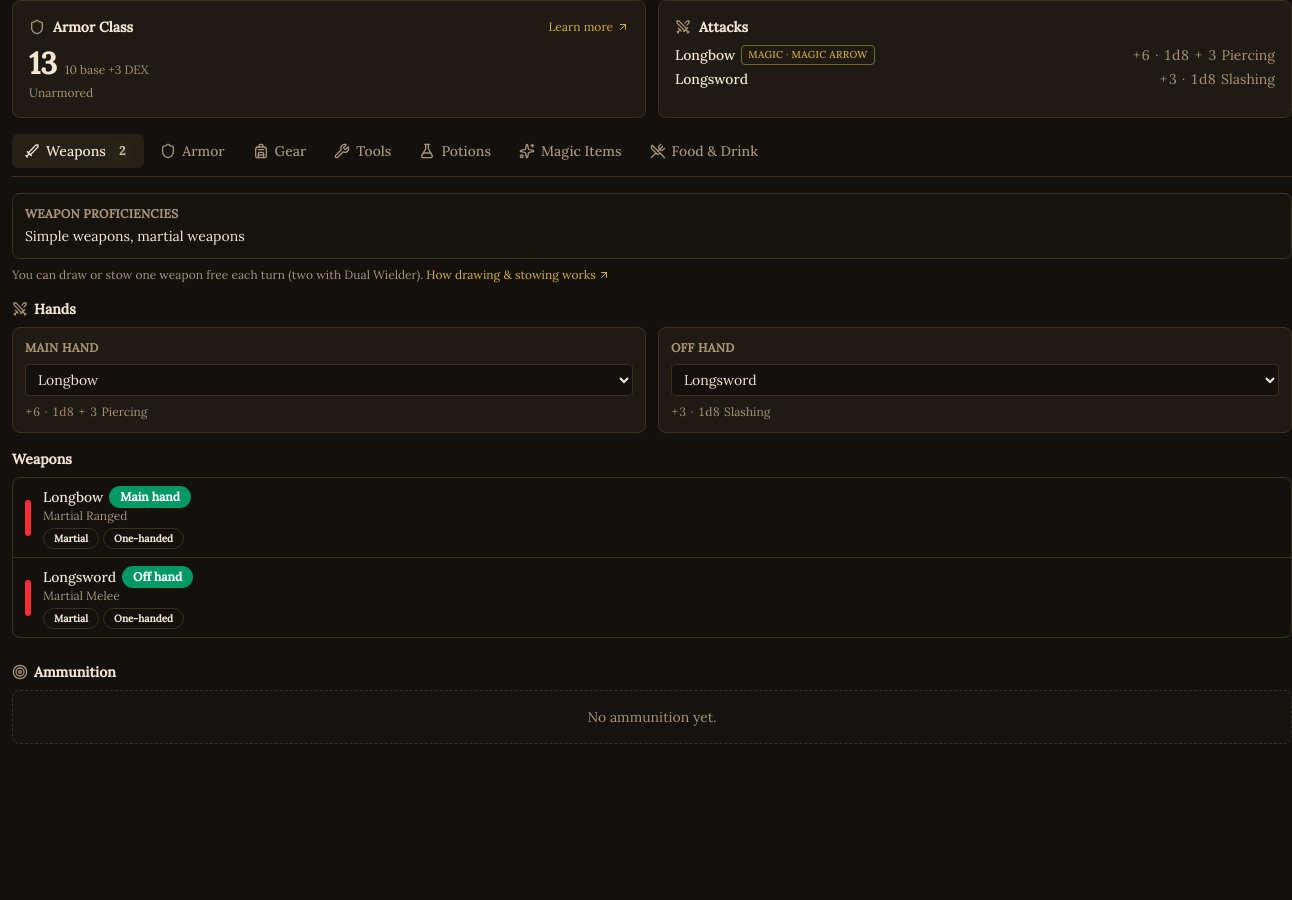
InventoryTab — Hex Warrior weapon (Hexblade Warlock) › magical attack tag › reveals the rule text on click and hides it again
Click the button with test id "attack-magical-lb1".
click(808, 55)  # box [741,45,875,65]
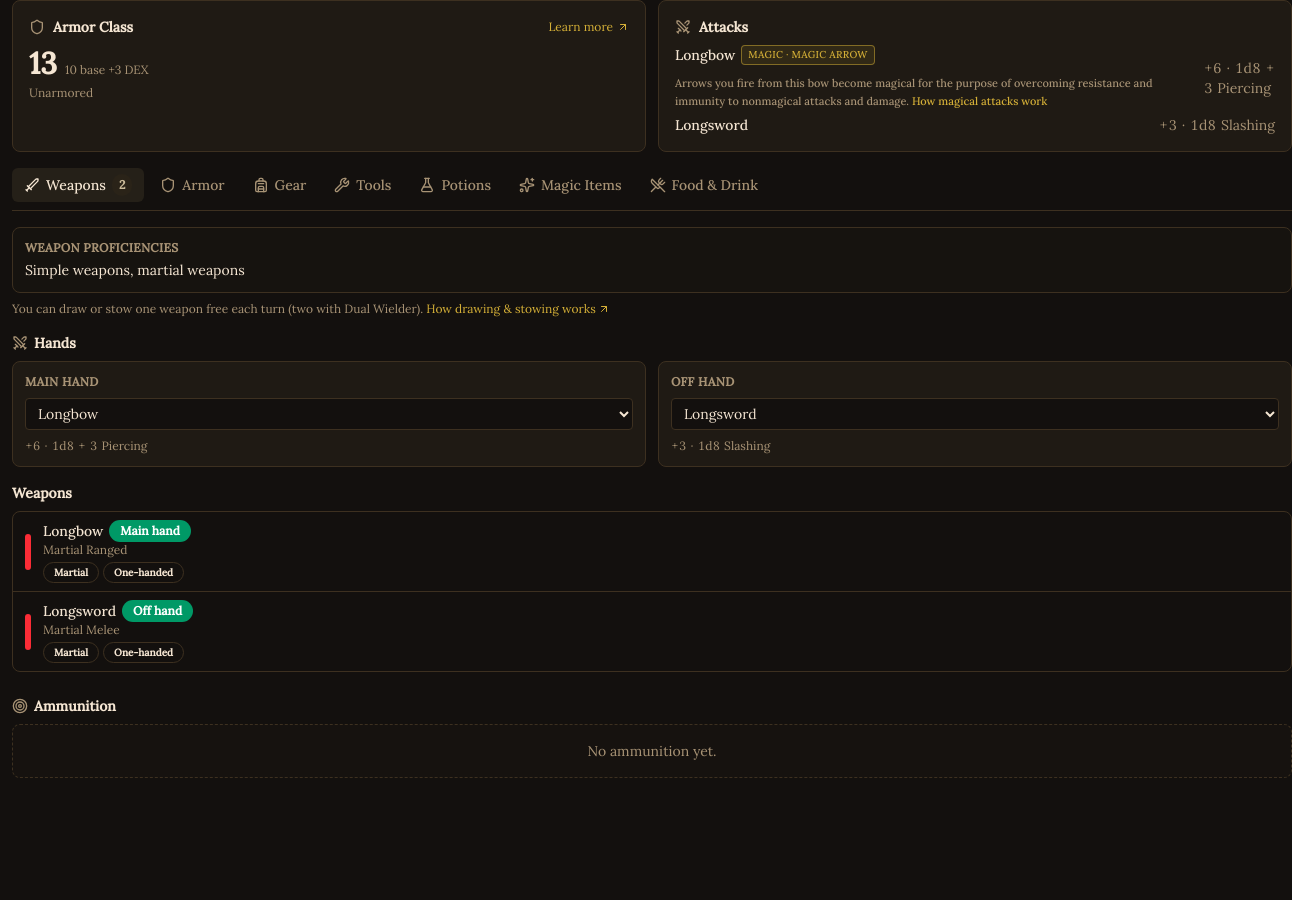
Expected: the element with test id "attack-magical-lb1-note" shows "overcoming resistance and immunity to nonmagical", [675,76,1153,108]
Click the button with test id "attack-magical-lb1".
click(808, 55)  # box [741,45,875,65]
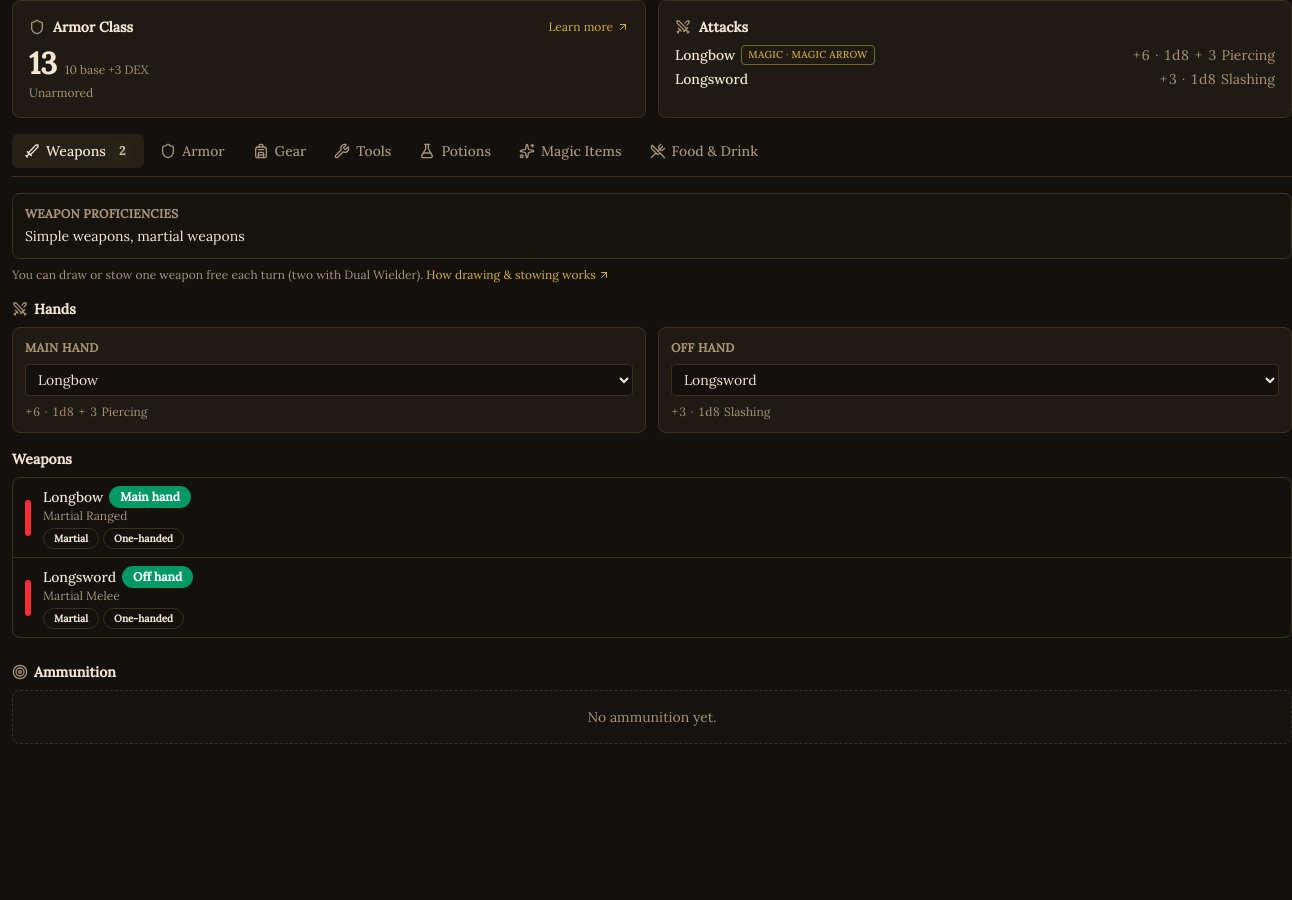
Expected: the element with test id "attack-magical-lb1-note" is gone
